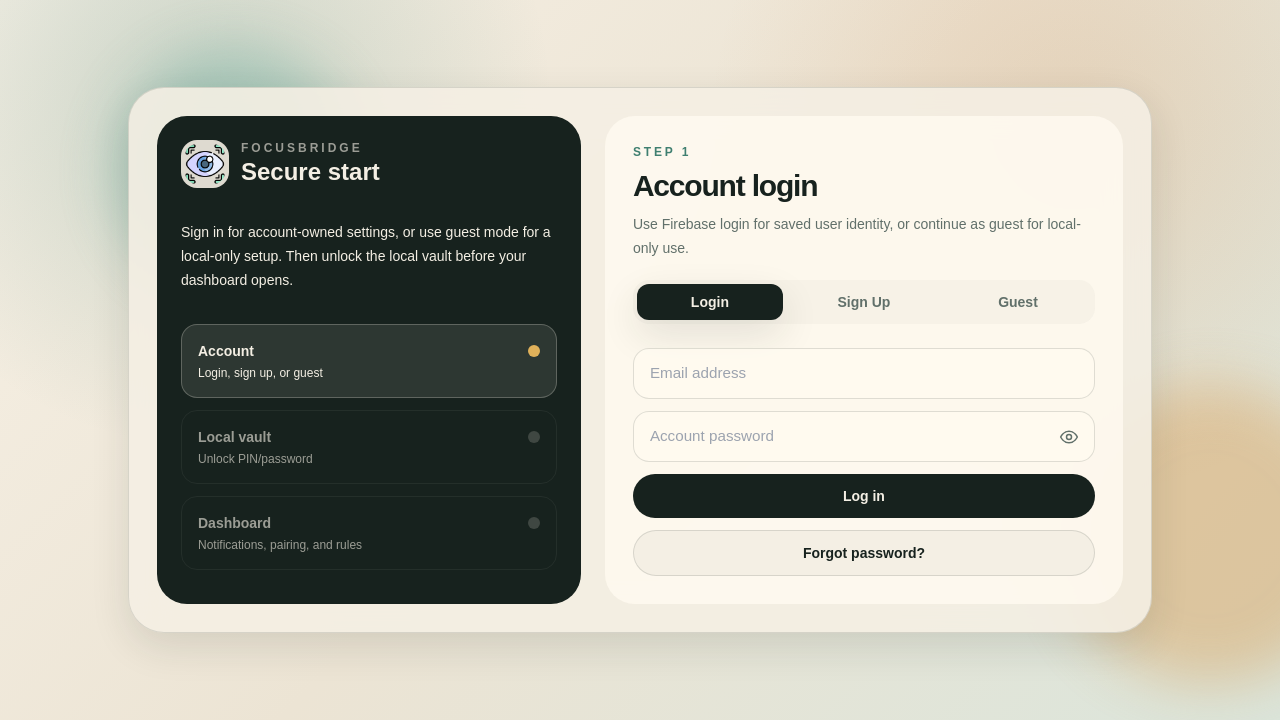
it: PasswordInput in AuthGate › does not submit an enclosing form when toggling visibility
Expected: the heading "Account login" is shown, [633,169,817,202]
Type "test-secret-123" into the password field with placeholder "Account password".
click(864, 436); type("test-secret-123")  # box [633,411,1095,462]
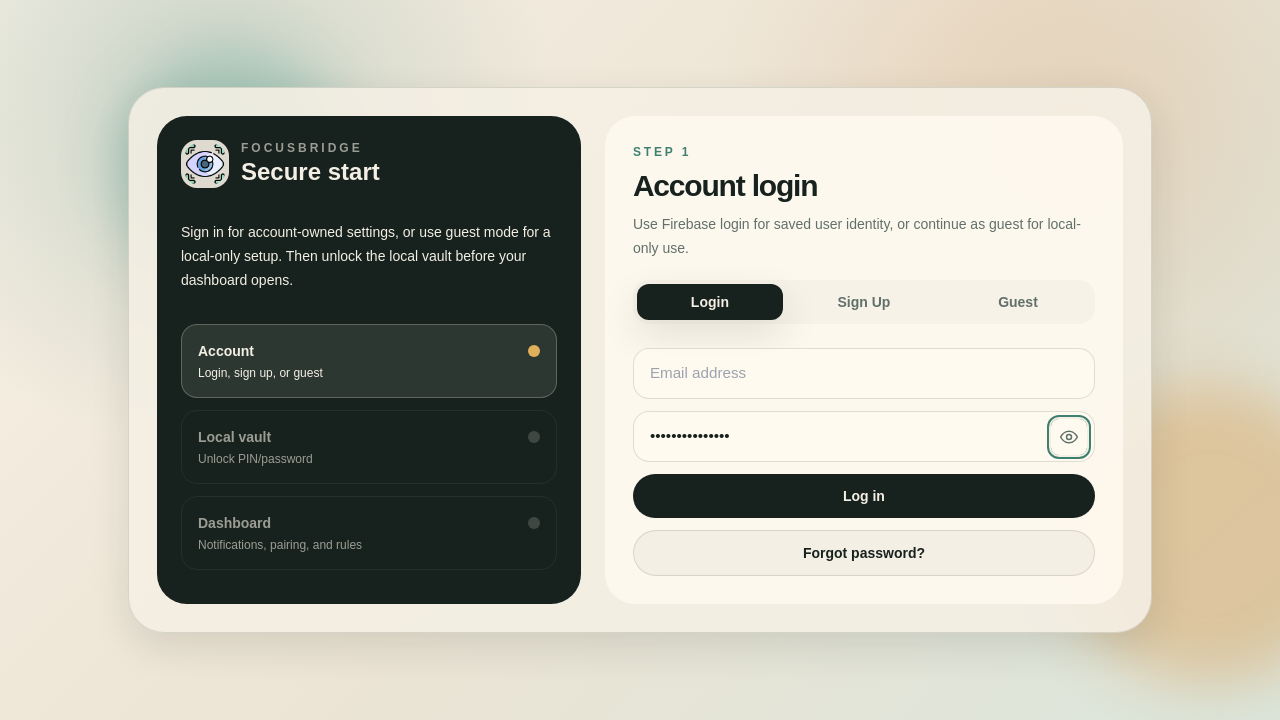
Click the button named "Show Account password".
click(1069, 436)  # box [1051,418,1087,454]
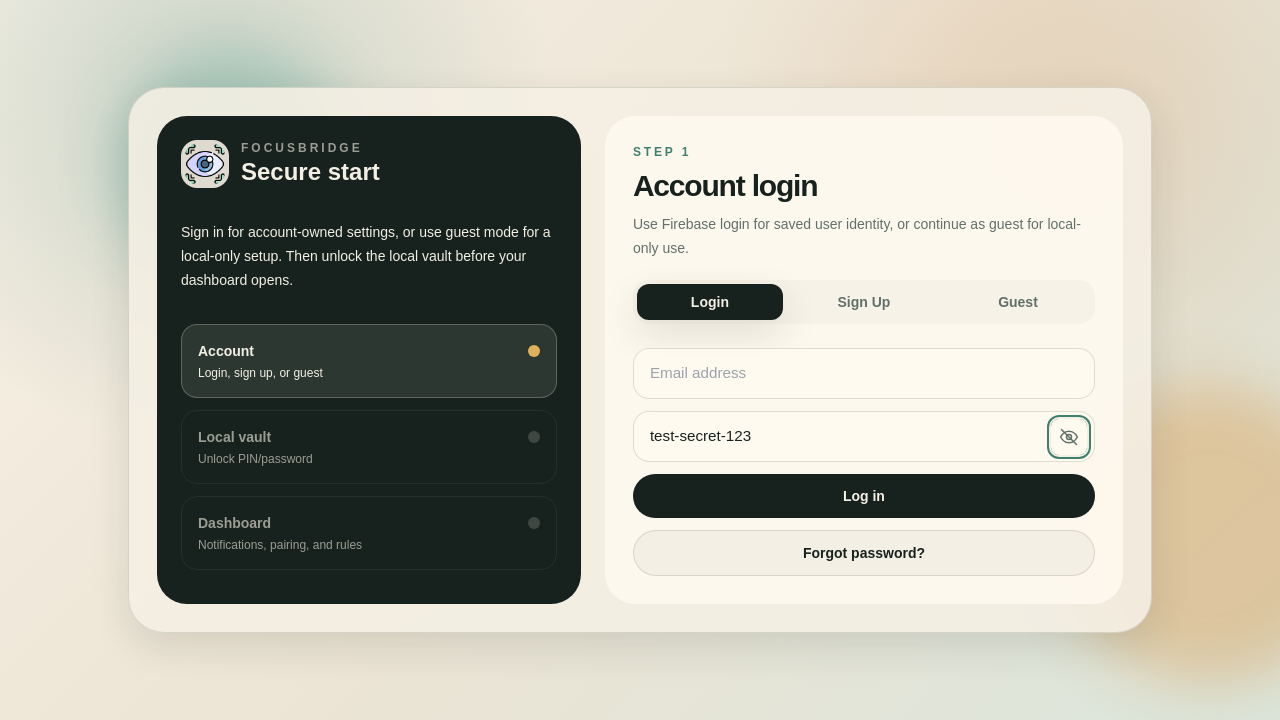
Expected: the field with placeholder "Account password" shows its text, [633,411,1095,462]
Click the button named "Hide Account password".
click(1069, 436)  # box [1051,418,1087,454]
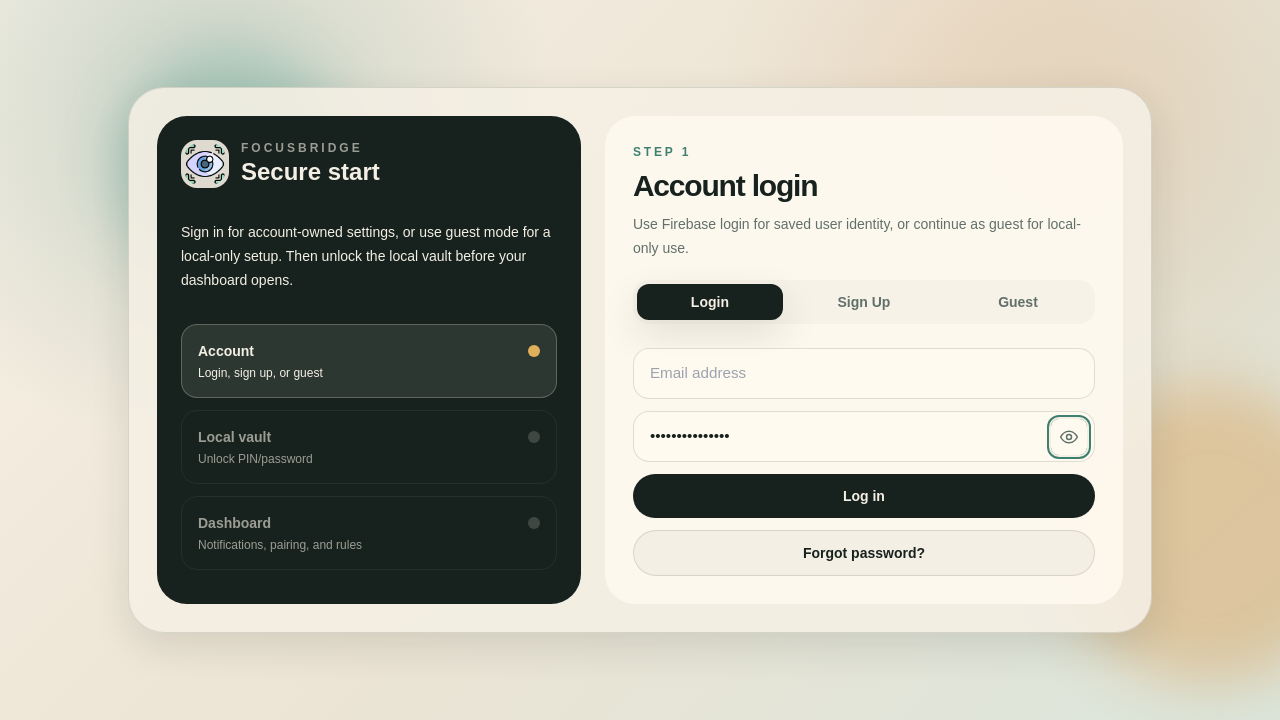
Expected: the password field with placeholder "Account password" hides its text, [633,411,1095,462]
